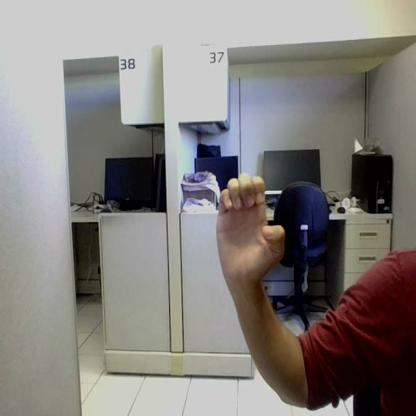E: (217, 173, 285, 276)
